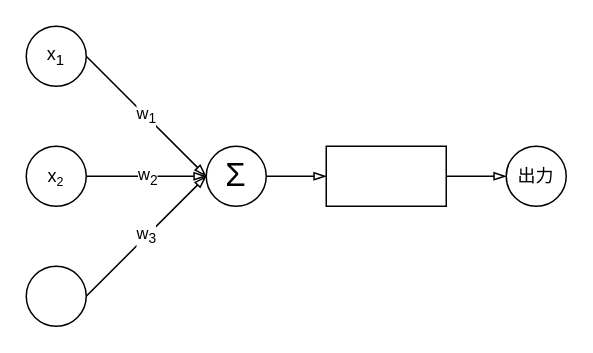
Some shapes in this 593 by 353 pixel diagram are drawn without their labels. Each missing label, with the centre of its shape:
"x 3" belongs at [55,295].
"活性化関数" belongs at [385,175].
